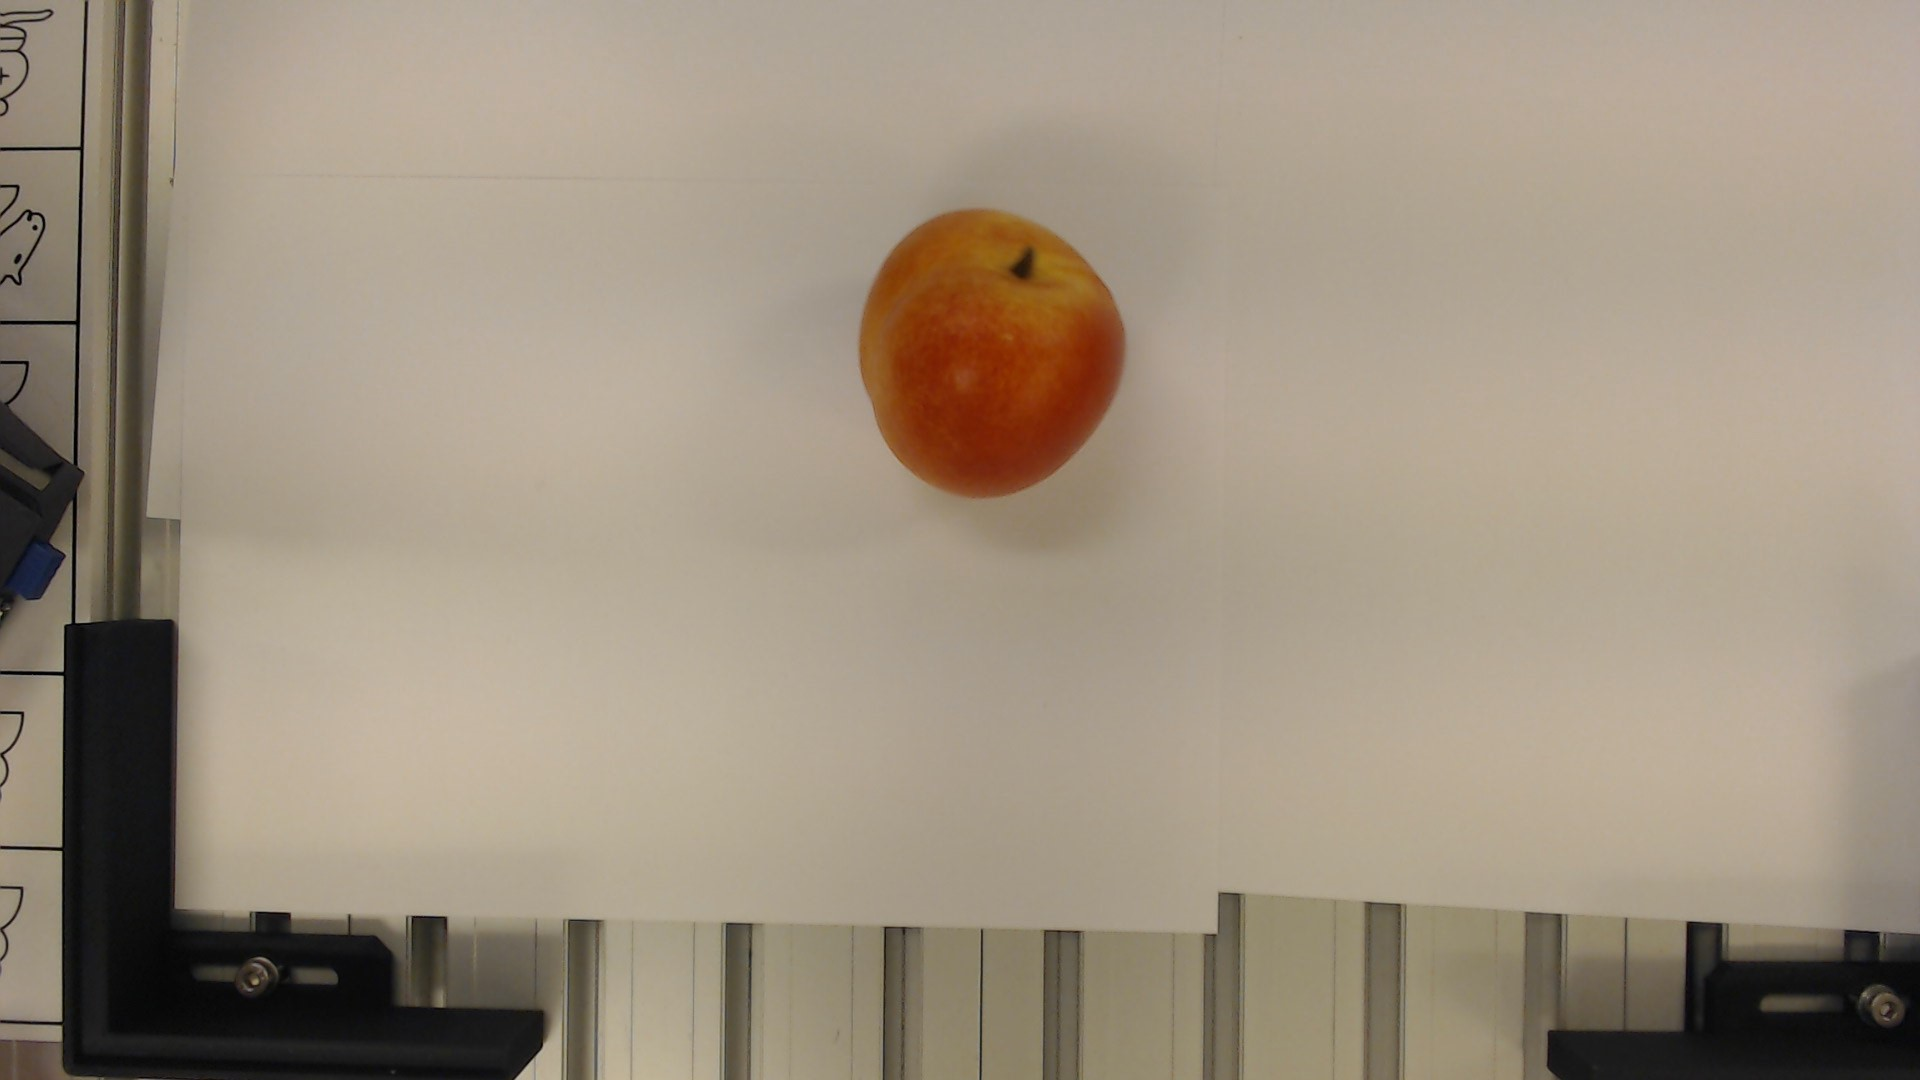Peach: (857, 211, 1127, 504)
